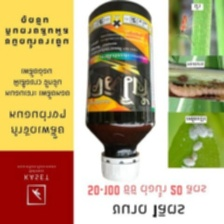insecticide: (81, 0, 159, 183)
